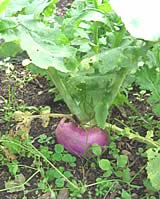turnip: (54, 115, 111, 160)
